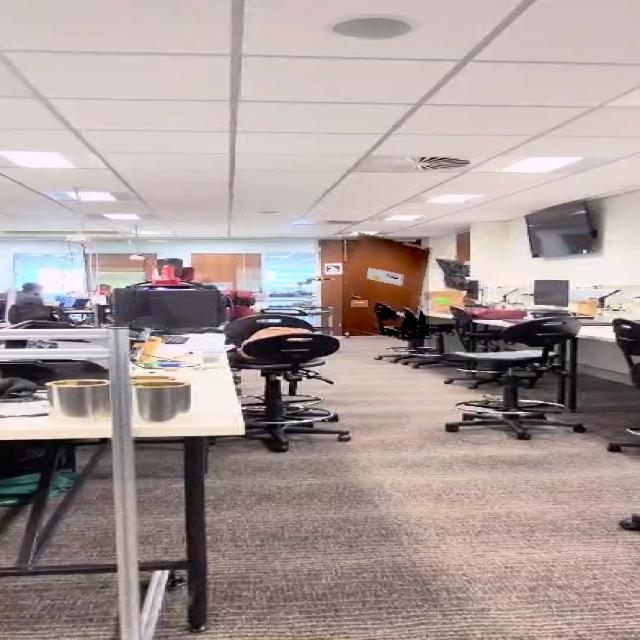doorhandle: (342, 236, 429, 339), (351, 300, 368, 307)
